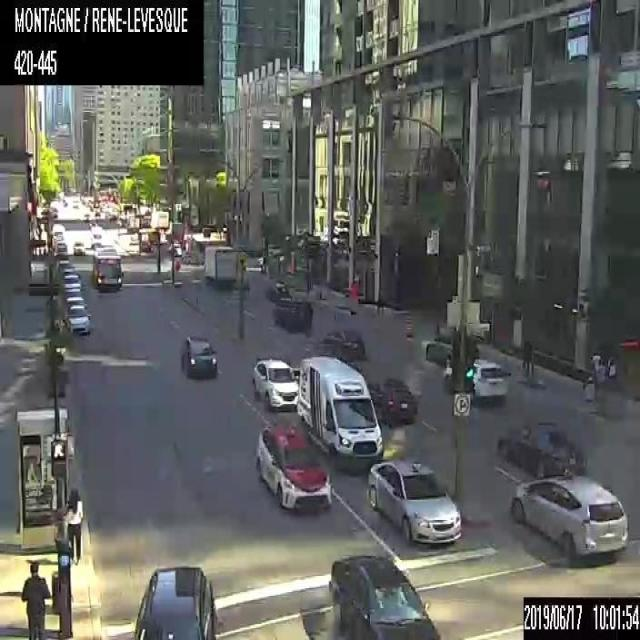bus: (92, 243, 122, 290)
construction: (348, 277, 357, 315), (406, 308, 414, 341)
pedestrian: (20, 562, 50, 638), (65, 487, 82, 565)
vehicle: (511, 469, 629, 562), (325, 553, 440, 639), (298, 352, 382, 468), (365, 458, 462, 544), (255, 425, 334, 513), (133, 564, 217, 639), (496, 418, 584, 476), (252, 356, 298, 408), (423, 330, 460, 394), (366, 378, 416, 423), (180, 333, 217, 376), (472, 356, 510, 397), (202, 242, 237, 286), (274, 297, 312, 333), (319, 327, 361, 358), (66, 304, 88, 335), (64, 286, 83, 321), (264, 278, 288, 299), (62, 274, 78, 294), (52, 224, 64, 248), (72, 240, 85, 256), (70, 199, 80, 209), (49, 205, 58, 216)
